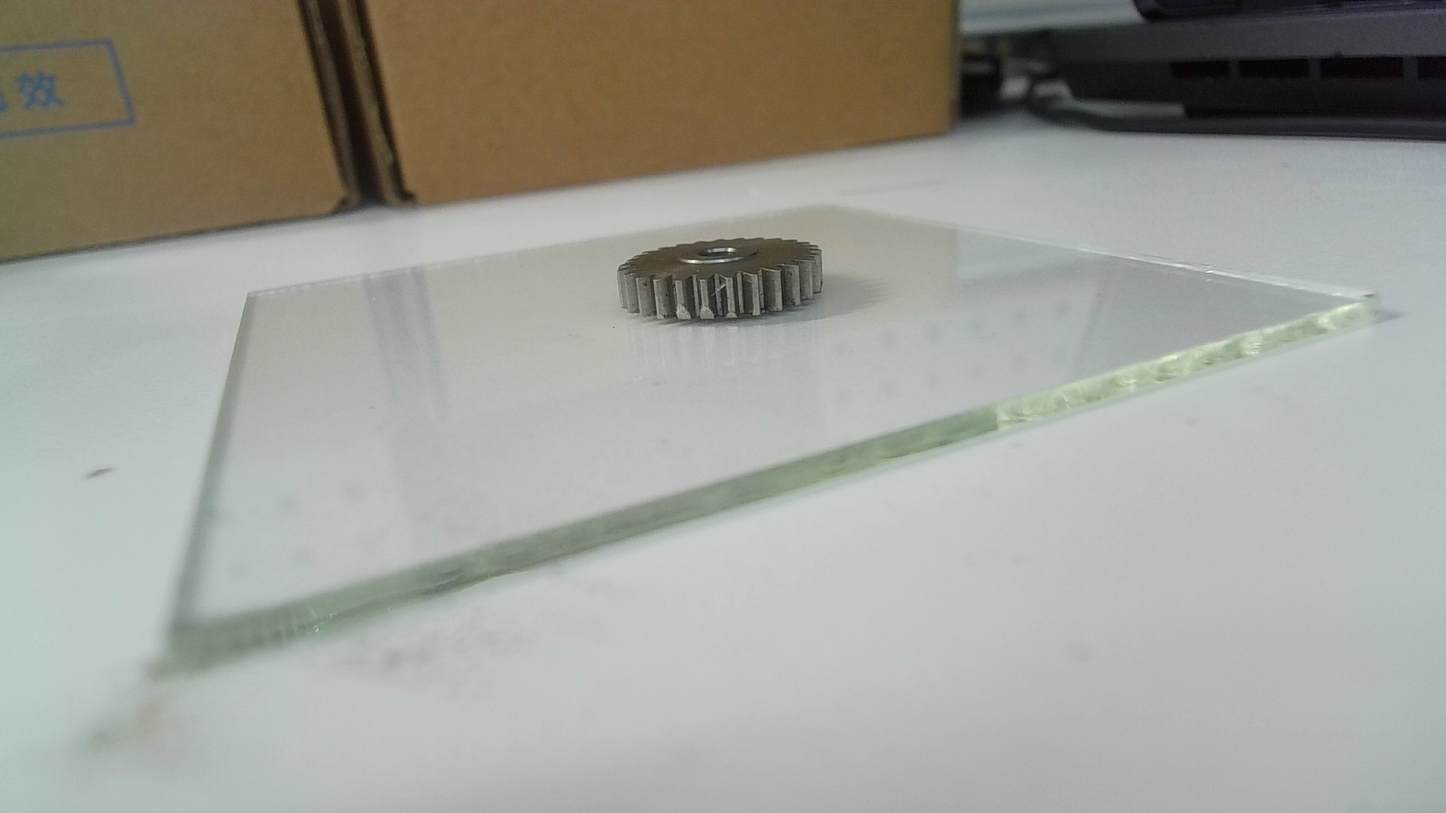gear: (617, 231, 826, 328)
